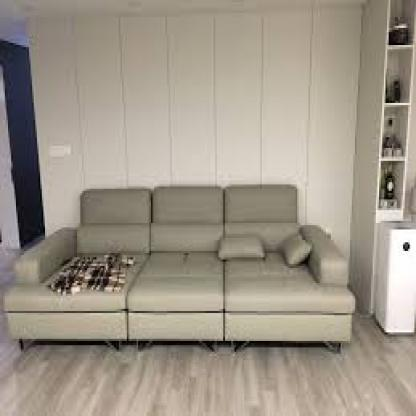sofa: (10, 186, 366, 348)
